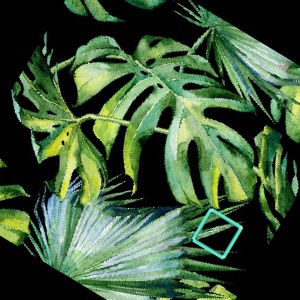square: (190, 206, 245, 261)
